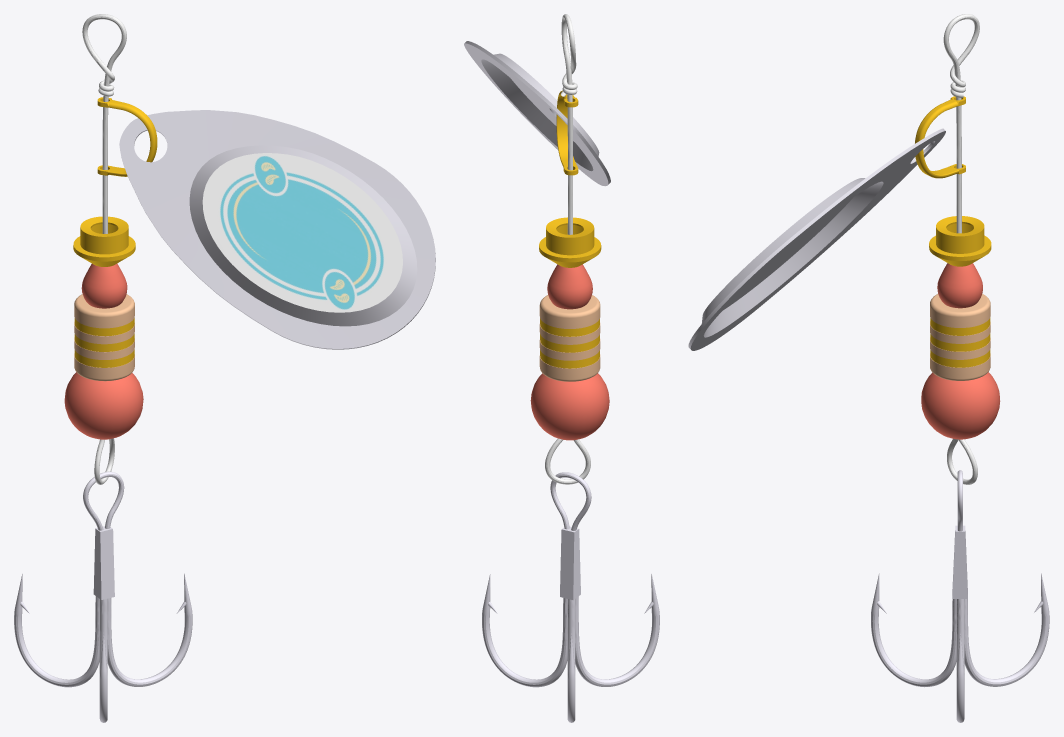
Rendered from moi_thia_dw06.glb.
3 renders of one model, left to right at view 1: azimuth 30°, elevation 25°; view 2: azimuth 150°, elevation 25°; view 3: azimuth 270°, elevation 25°, orthographic.
Parts seen in each view (by area): view 1: NurbsPath.001, NurbsPath.002; view 2: NurbsPath.001; view 3: NurbsPath.001.
Boxes of the visible parts, box(x1,y1,x2,y2) form: NurbsPath.001: box(14, 14, 435, 722); NurbsPath.002: box(202, 153, 402, 312); NurbsPath.001: box(464, 14, 659, 722); NurbsPath.001: box(688, 14, 1049, 722).
Size of the model in its own units: 0.7147 by 1.8 by 0.8636.
Materials: 7 (1 with a texture image).
